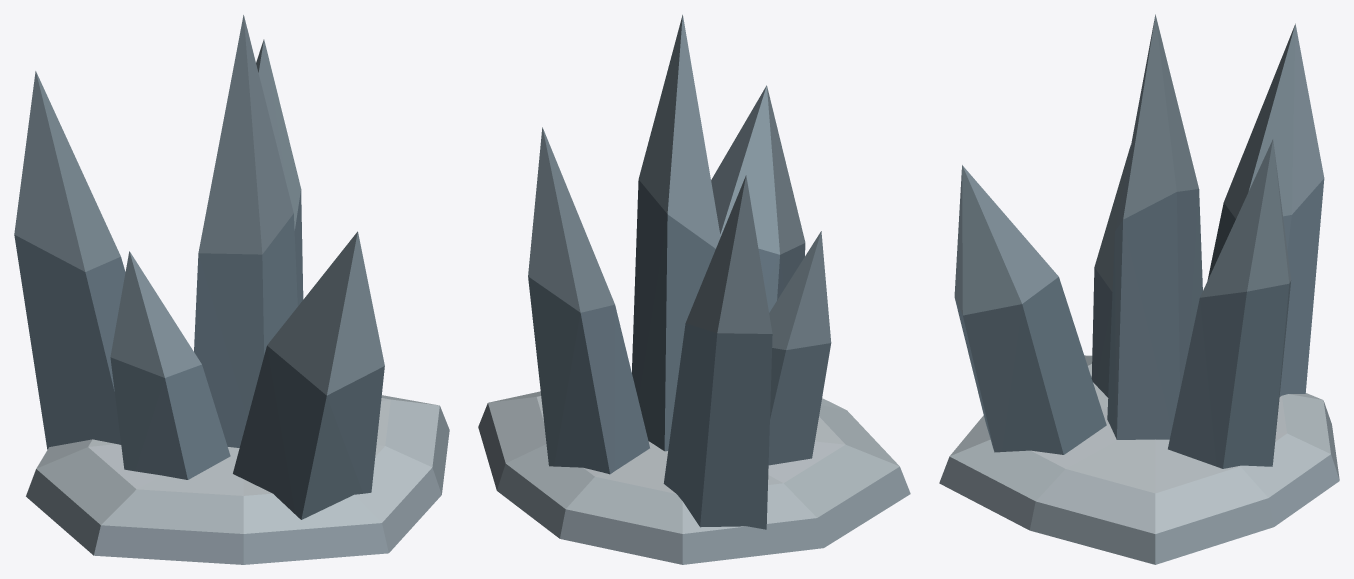
The picture shows the model from 3 angles, left to right: view 1: azimuth 30°, elevation 25°; view 2: azimuth 150°, elevation 25°; view 3: azimuth 270°, elevation 25°; orthographic projection. The views are drawn at different scales.
Parts seen in each view (by area): view 1: glacier-icicles-1; view 2: glacier-icicles-1; view 3: glacier-icicles-1.
Part boxes in pixels (<box>): glacier-icicles-1: <box>14,15,449,564</box>; glacier-icicles-1: <box>478,14,910,564</box>; glacier-icicles-1: <box>939,14,1339,564</box>.
Bounding box in the file's own units: 0.9239 × 1.04 × 0.8332.
